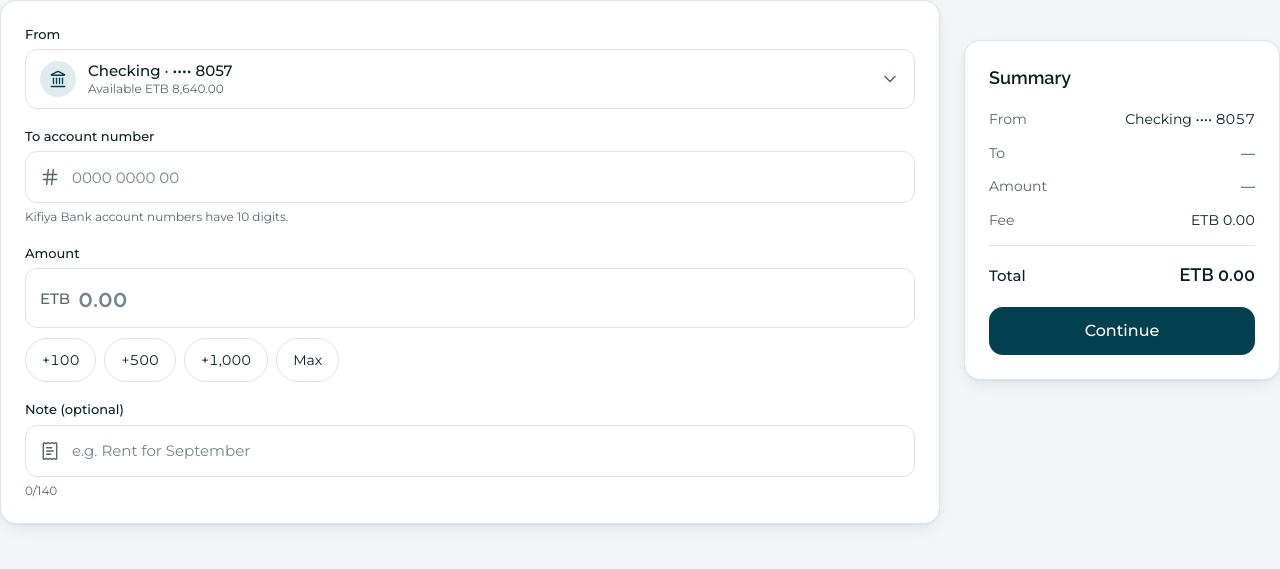
Test case: TransferForm › catches invalid input before review and focuses the first problem
Type "8751138057" into the field labelled "To account number" at [486, 177], box [72,167,900,188]
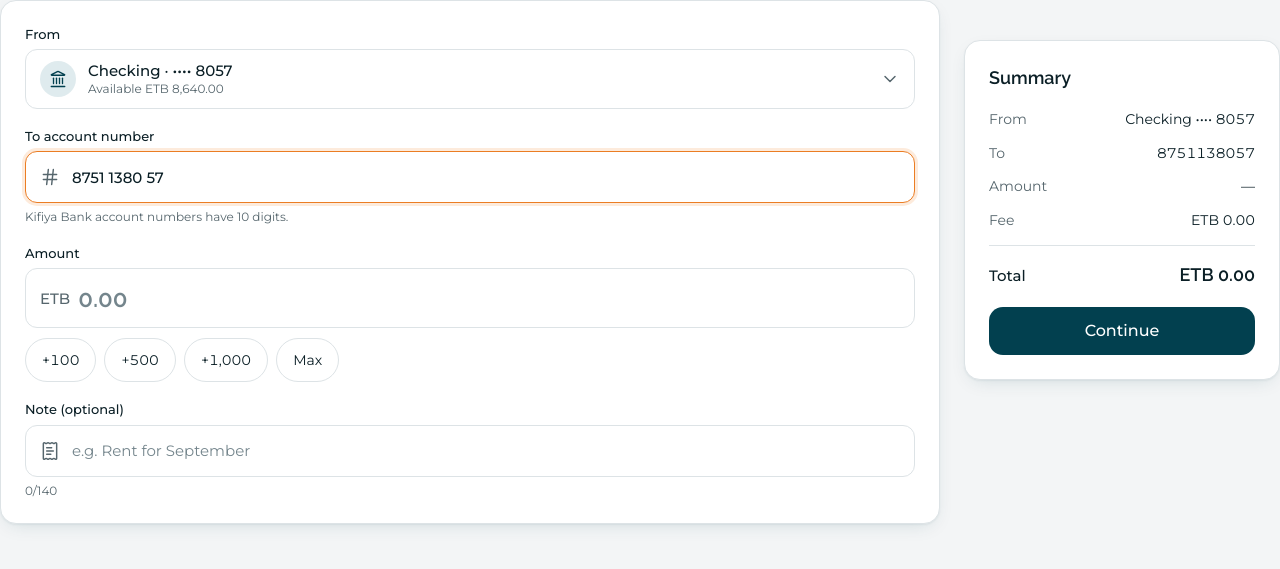
Click the button "Continue" at [1122, 331], box [989,307,1255,355]
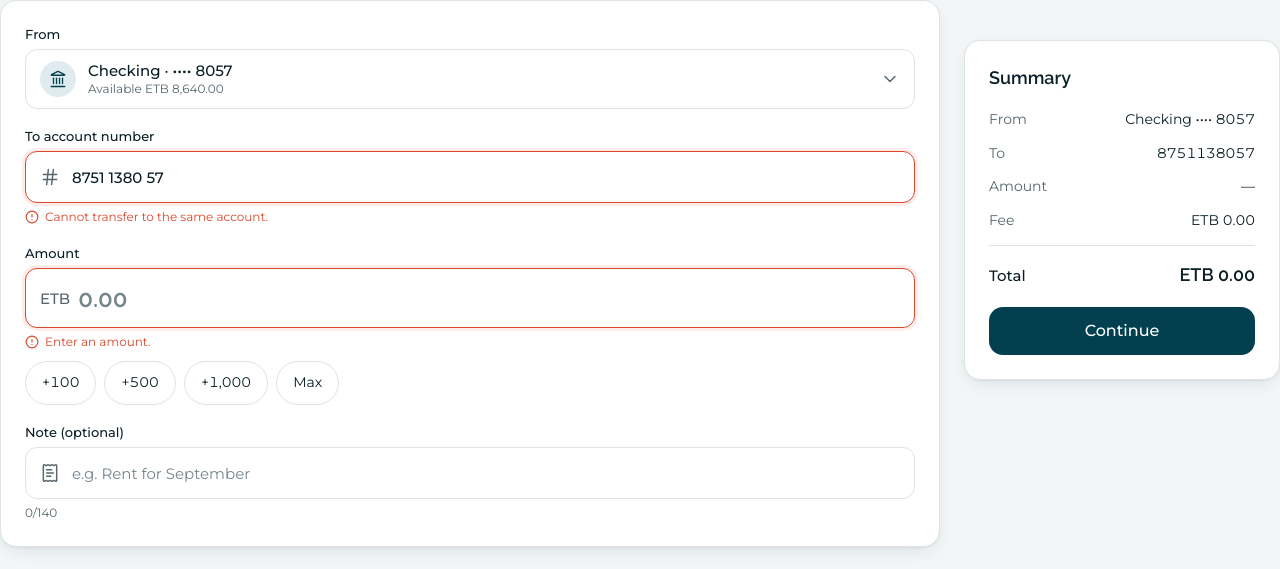
Expected: the text "Cannot transfer to the same account." is shown, [25,209,268,224]
Expected: the text "Enter an amount." is shown, [25,334,150,349]
